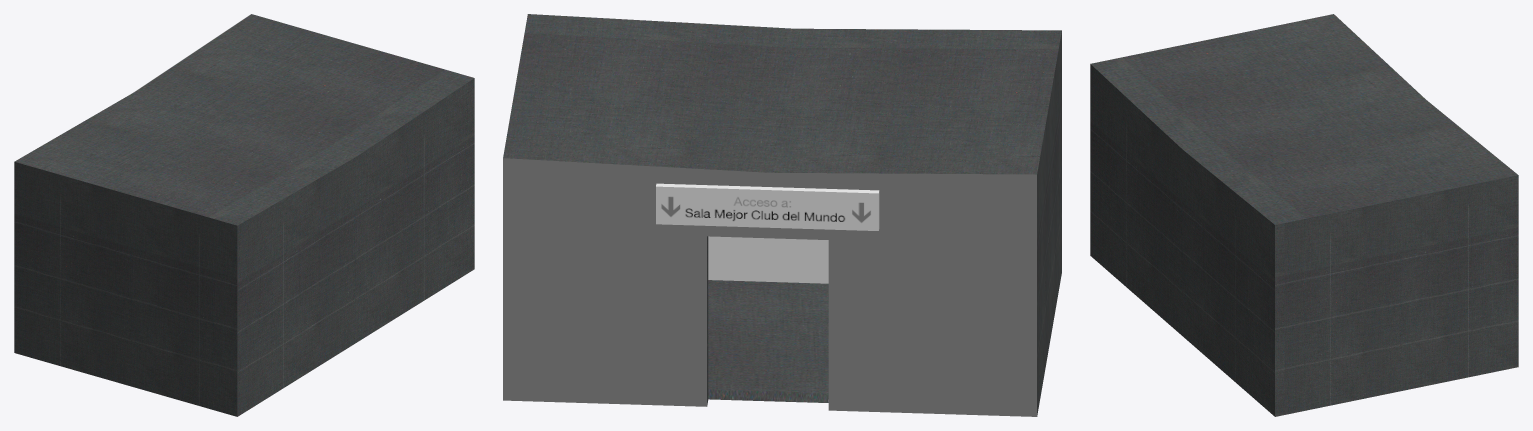
Rendered from accesoSalaMejorClub.FBX.
3 renders of one model, left to right at view 1: azimuth 30°, elevation 25°; view 2: azimuth 150°, elevation 25°; view 3: azimuth 270°, elevation 25°, orthographic. The views are drawn at different scales.
Parts seen in each view (by area): view 1: accesoSalaMejorClub; view 2: accesoSalaMejorClub; view 3: accesoSalaMejorClub.
Boxes of the visible parts, x1,y1,x2,y2 form: accesoSalaMejorClub: (14, 14, 474, 416); accesoSalaMejorClub: (503, 14, 1061, 416); accesoSalaMejorClub: (1090, 14, 1518, 416).
Size of the model in its own units: 558 by 236 by 478.
3 materials, 1 textured.
